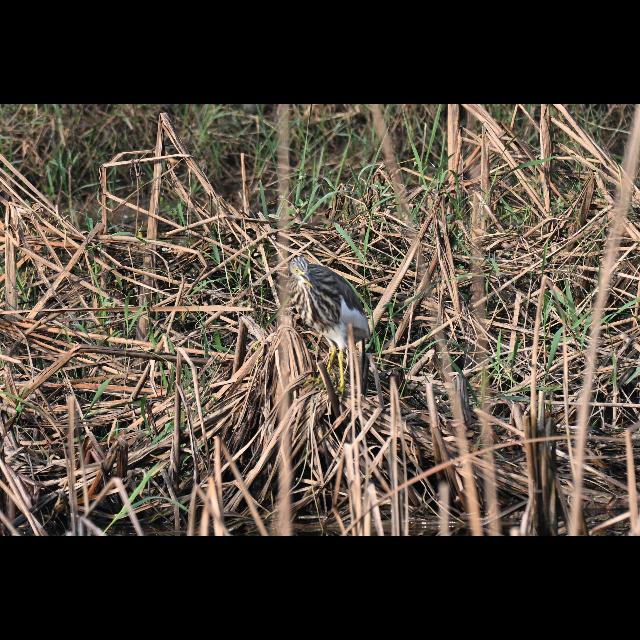heron: (283, 249, 373, 371)
